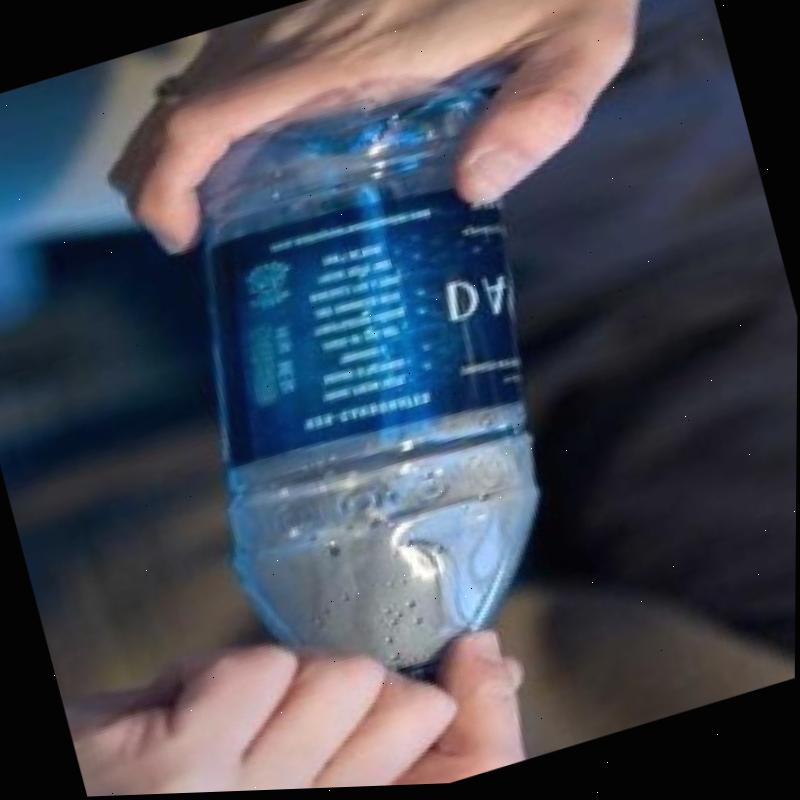botella: (131, 76, 629, 727)
